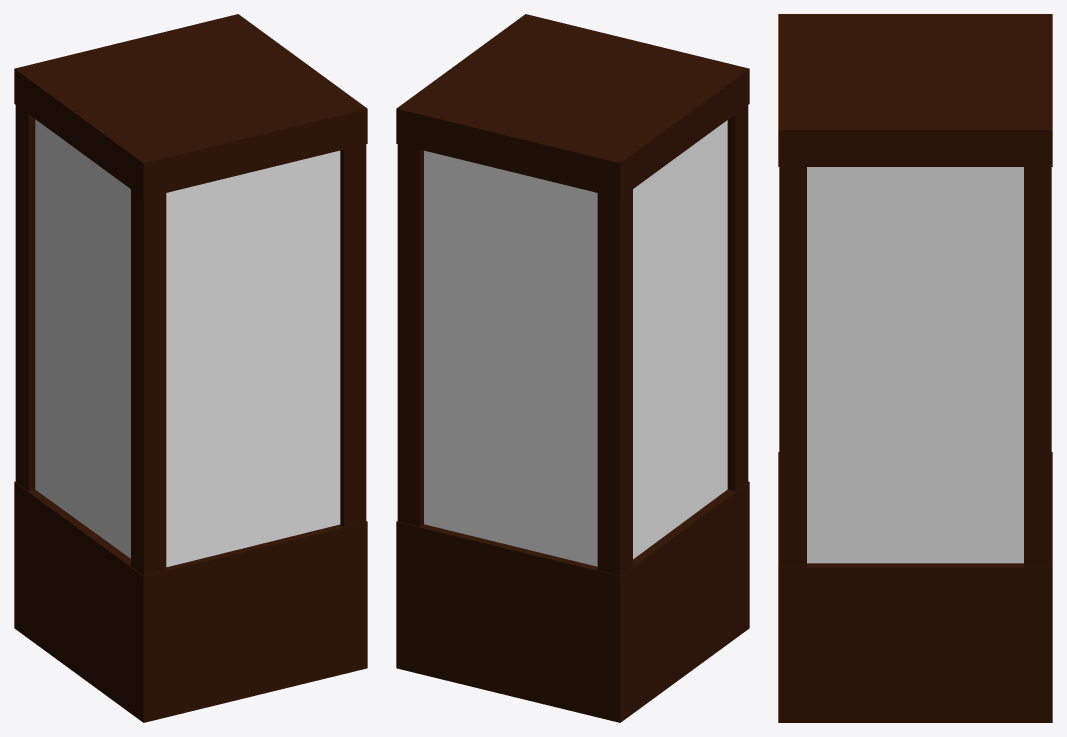
Rendered from TrophyCabinet.fbx.
3 views of the same model, side by side, from view 1: azimuth 30°, elevation 25°; view 2: azimuth 150°, elevation 25°; view 3: azimuth 270°, elevation 25° (orthographic). The views are drawn at different scales.
Visible parts, largest first — view 1: TrophyCabinet; view 2: TrophyCabinet; view 3: TrophyCabinet.
Boxes of the visible parts, <box> form: TrophyCabinet: <box>14,14,367,722</box>; TrophyCabinet: <box>396,14,749,722</box>; TrophyCabinet: <box>778,14,1052,722</box>.
Size of the model in its own units: 80 by 191 by 80.
